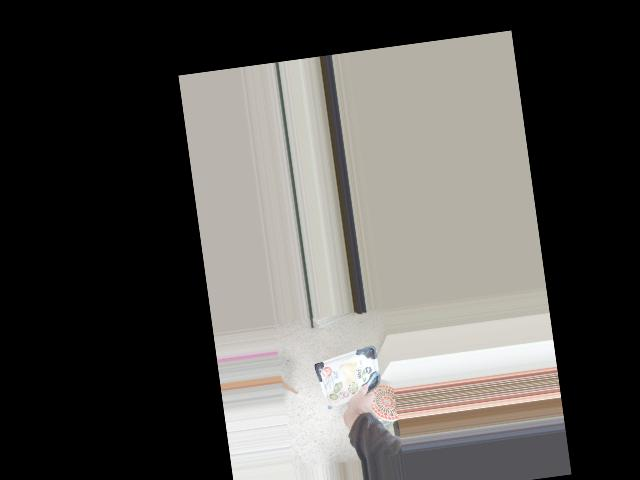cheese: (321, 362, 374, 418)
